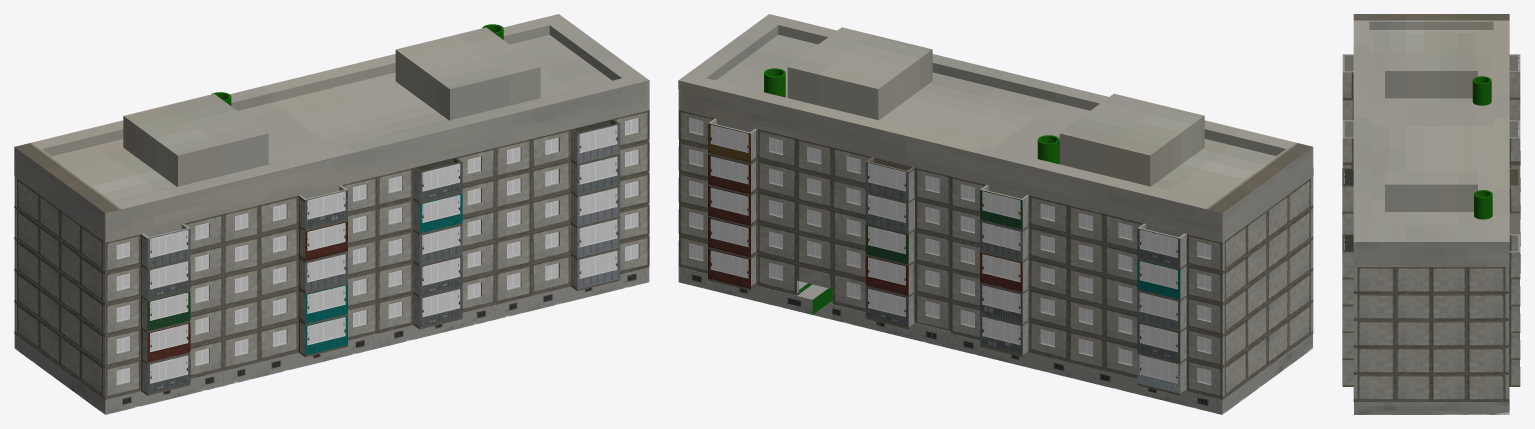
Rendered from Оснавная хрущёвка.fbx.
3 views of the same model, side by side, from view 1: azimuth 30°, elevation 25°; view 2: azimuth 150°, elevation 25°; view 3: azimuth 270°, elevation 25° (orthographic). The views are drawn at different scales.
Parts seen in each view (by area): view 1: mainApart, Плоскость.044; view 2: mainApart; view 3: mainApart, Плоскость.044.
Part boxes in pixels (x1,y1,x2,y2): mainApart: [14, 14, 649, 414]; Плоскость.044: [531, 186, 620, 231]; mainApart: [678, 14, 1313, 414]; mainApart: [1342, 14, 1520, 414]; Плоскость.044: [1342, 305, 1353, 331].
Bounding box in the file's own units: 8996 × 3558 × 2970.
